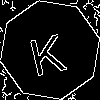K: (25, 25, 68, 77)
